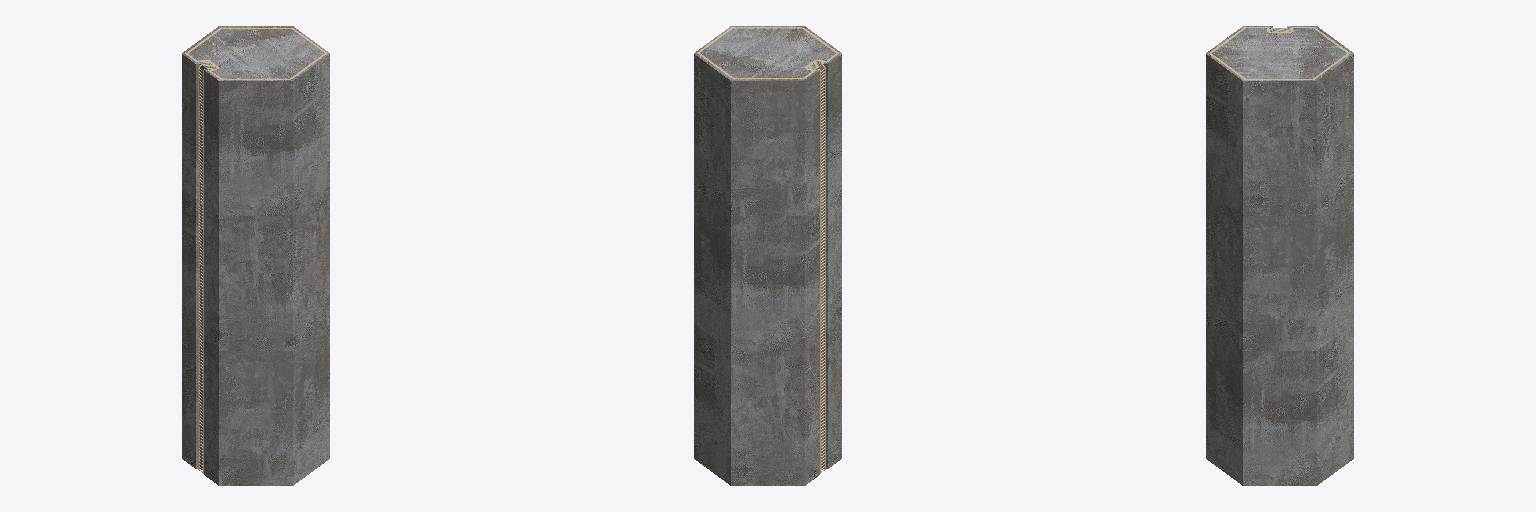
The picture shows the model from 3 angles: view 1: azimuth 30°, elevation 25°; view 2: azimuth 150°, elevation 25°; view 3: azimuth 270°, elevation 25°; orthographic projection.
Parts seen in each view (by area): view 1: Cylinder, Cylinder.002, Cylinder.001; view 2: Cylinder, Cylinder.002, Cylinder.001; view 3: Cylinder.
Part boxes in pixels (x1,y1,x2,y2): Cylinder: (182,26,329,485); Cylinder.002: (198,65,204,473); Cylinder.001: (199,68,202,472); Cylinder: (694,26,841,485); Cylinder.002: (819,65,825,473); Cylinder.001: (821,68,824,472); Cylinder: (1206,26,1353,485).
Bounding box in the file's own units: 17.32 × 60 × 20.
2 materials, 1 textured.